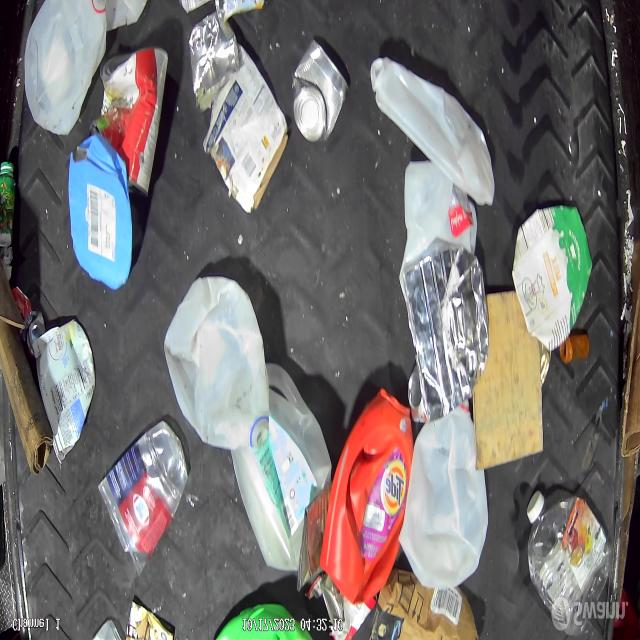can: (402, 250, 489, 422), (100, 46, 169, 200), (291, 37, 348, 143), (190, 12, 240, 96)
milk_jug: (232, 363, 332, 577), (164, 274, 272, 450), (374, 55, 495, 206), (404, 408, 487, 586), (24, 1, 107, 137)
non_white_jug: (323, 388, 413, 606), (67, 138, 134, 285)
